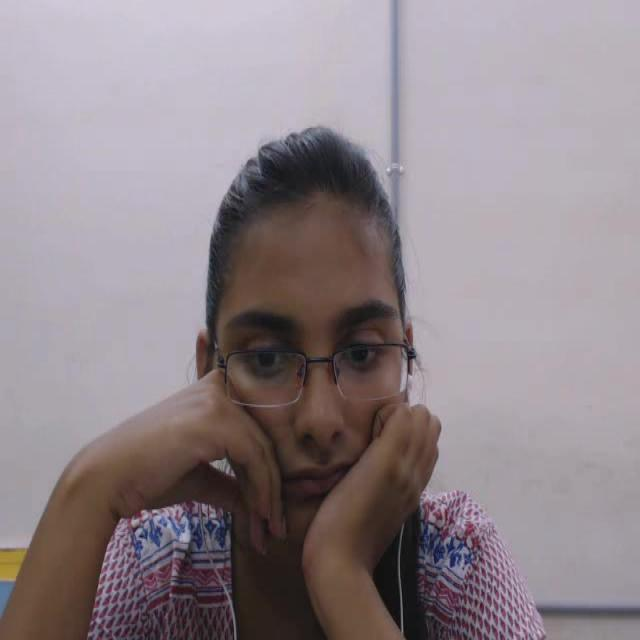Bored: (160, 118, 478, 554)
